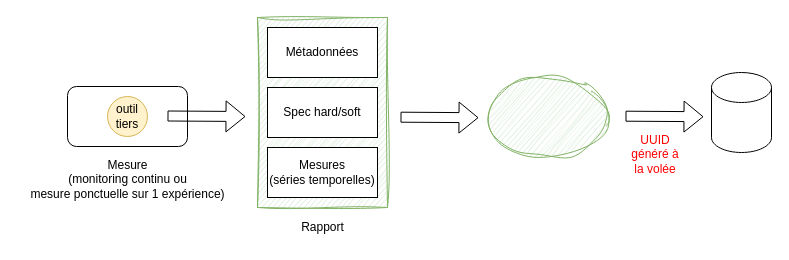
This 789x260 diagram has some shape labels left out. The shapes that lost their labels are listed below. From the top down, each one's box as (x1, y1, x2, y2) in pixels, then its label:
(486, 76, 608, 158): Energizta Server
(710, 72, 772, 152): DB
